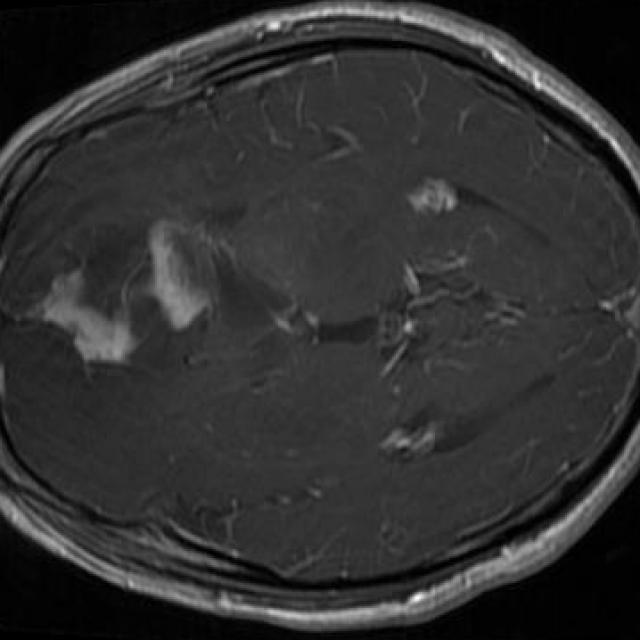glioma: (45, 219, 234, 362)
